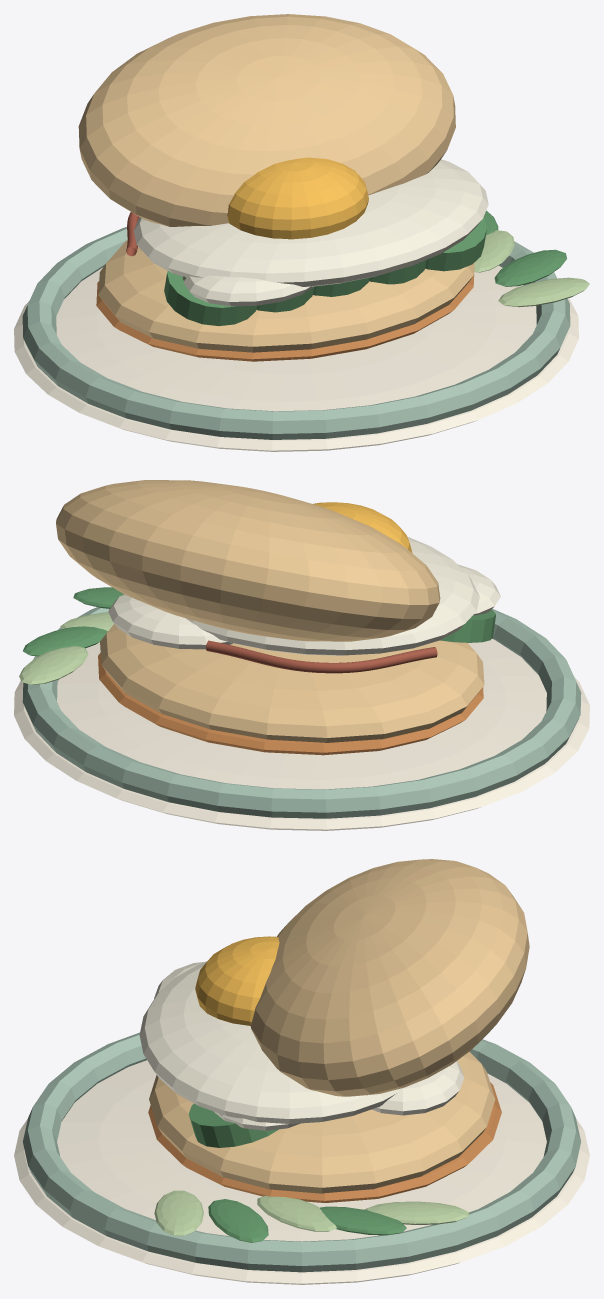
Rendered from morning_egg_bun.glb.
3 renders of one model, top to bottom at view 1: azimuth 30°, elevation 25°; view 2: azimuth 150°, elevation 25°; view 3: azimuth 270°, elevation 25°, orthographic. The views are drawn at different scales.
Visible parts, largest first — view 1: open_bun_top, morning_round_plate_base, morning_round_plate_rolled_rim, fried_egg_irregular_white, bottom_bun_cut_surface, sunny_yolk_dome, bottom_bun_toast, fried_egg_white_lobe_0, cucumber_disc_0, cucumber_side_garnish_0, cucumber_side_garnish_1, cucumber_disc_4 (+4 smaller); view 2: open_bun_top, morning_round_plate_base, bottom_bun_cut_surface, morning_round_plate_rolled_rim, fried_egg_irregular_white, bottom_bun_toast, fried_egg_white_lobe_2, sauce_edge, cucumber_side_garnish_4, cucumber_side_garnish_3, sunny_yolk_dome, cucumber_disc_0 (+3 smaller); view 3: open_bun_top, morning_round_plate_base, morning_round_plate_rolled_rim, bottom_bun_cut_surface, fried_egg_irregular_white, sunny_yolk_dome, bottom_bun_toast, fried_egg_white_lobe_2, cucumber_disc_4, cucumber_side_garnish_1, cucumber_side_garnish_0, cucumber_side_garnish_4 (+3 smaller).
Part boxes in pixels (x1,y1,x2,y2): open_bun_top: [78, 14, 455, 226]; morning_round_plate_base: [14, 265, 578, 451]; morning_round_plate_rolled_rim: [22, 227, 570, 439]; fried_egg_irregular_white: [133, 159, 488, 286]; bottom_bun_cut_surface: [98, 240, 474, 352]; sunny_yolk_dome: [227, 157, 368, 239]; bottom_bun_toast: [96, 269, 474, 361]; fried_egg_white_lobe_0: [183, 275, 314, 306]; cucumber_disc_0: [164, 271, 256, 326]; cucumber_side_garnish_0: [498, 277, 589, 307]; cucumber_side_garnish_1: [494, 249, 566, 286]; cucumber_disc_4: [425, 217, 486, 271]; open_bun_top: [56, 480, 440, 641]; morning_round_plate_base: [14, 639, 589, 830]; bottom_bun_cut_surface: [100, 624, 484, 742]; morning_round_plate_rolled_rim: [22, 607, 581, 818]; fried_egg_irregular_white: [186, 536, 479, 655]; bottom_bun_toast: [98, 653, 483, 755]; fried_egg_white_lobe_2: [108, 594, 232, 649]; sauce_edge: [206, 640, 437, 673]; cucumber_side_garnish_4: [19, 646, 88, 684]; cucumber_side_garnish_3: [23, 626, 107, 656]; sunny_yolk_dome: [313, 502, 412, 552]; cucumber_disc_0: [440, 609, 495, 642]; open_bun_top: [250, 859, 529, 1096]; morning_round_plate_base: [14, 1060, 589, 1284]; morning_round_plate_rolled_rim: [23, 1032, 580, 1272]; bottom_bun_cut_surface: [149, 1051, 495, 1193]; fried_egg_irregular_white: [139, 961, 399, 1123]; sunny_yolk_dome: [195, 936, 279, 1025]; bottom_bun_toast: [148, 1082, 501, 1202]; fried_egg_white_lobe_2: [371, 1061, 464, 1115]; cucumber_disc_4: [188, 1103, 278, 1147]; cucumber_side_garnish_1: [208, 1199, 268, 1242]; cucumber_side_garnish_0: [154, 1190, 203, 1235]; cucumber_side_garnish_4: [364, 1201, 468, 1224].
Size of the model in its own units: 0.84 by 0.4312 by 0.798.
